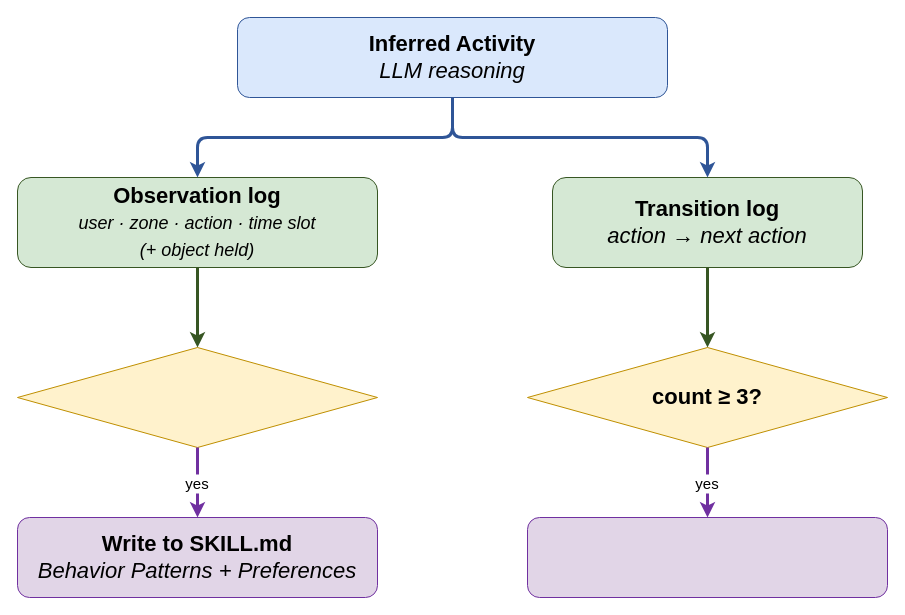
Some shapes in this 905 by 615 pixel diagram are drawn without their labels. Each missing label, with the centre of its shape:
"Used by 2-Step Lookahead proactive service" goes at (x=707, y=557).
"weight ≥ 5?" goes at (x=197, y=397).
